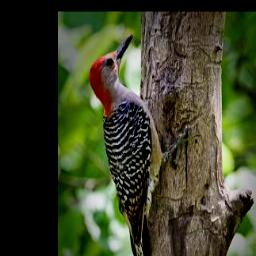Woodpecker: (81, 29, 203, 256)
